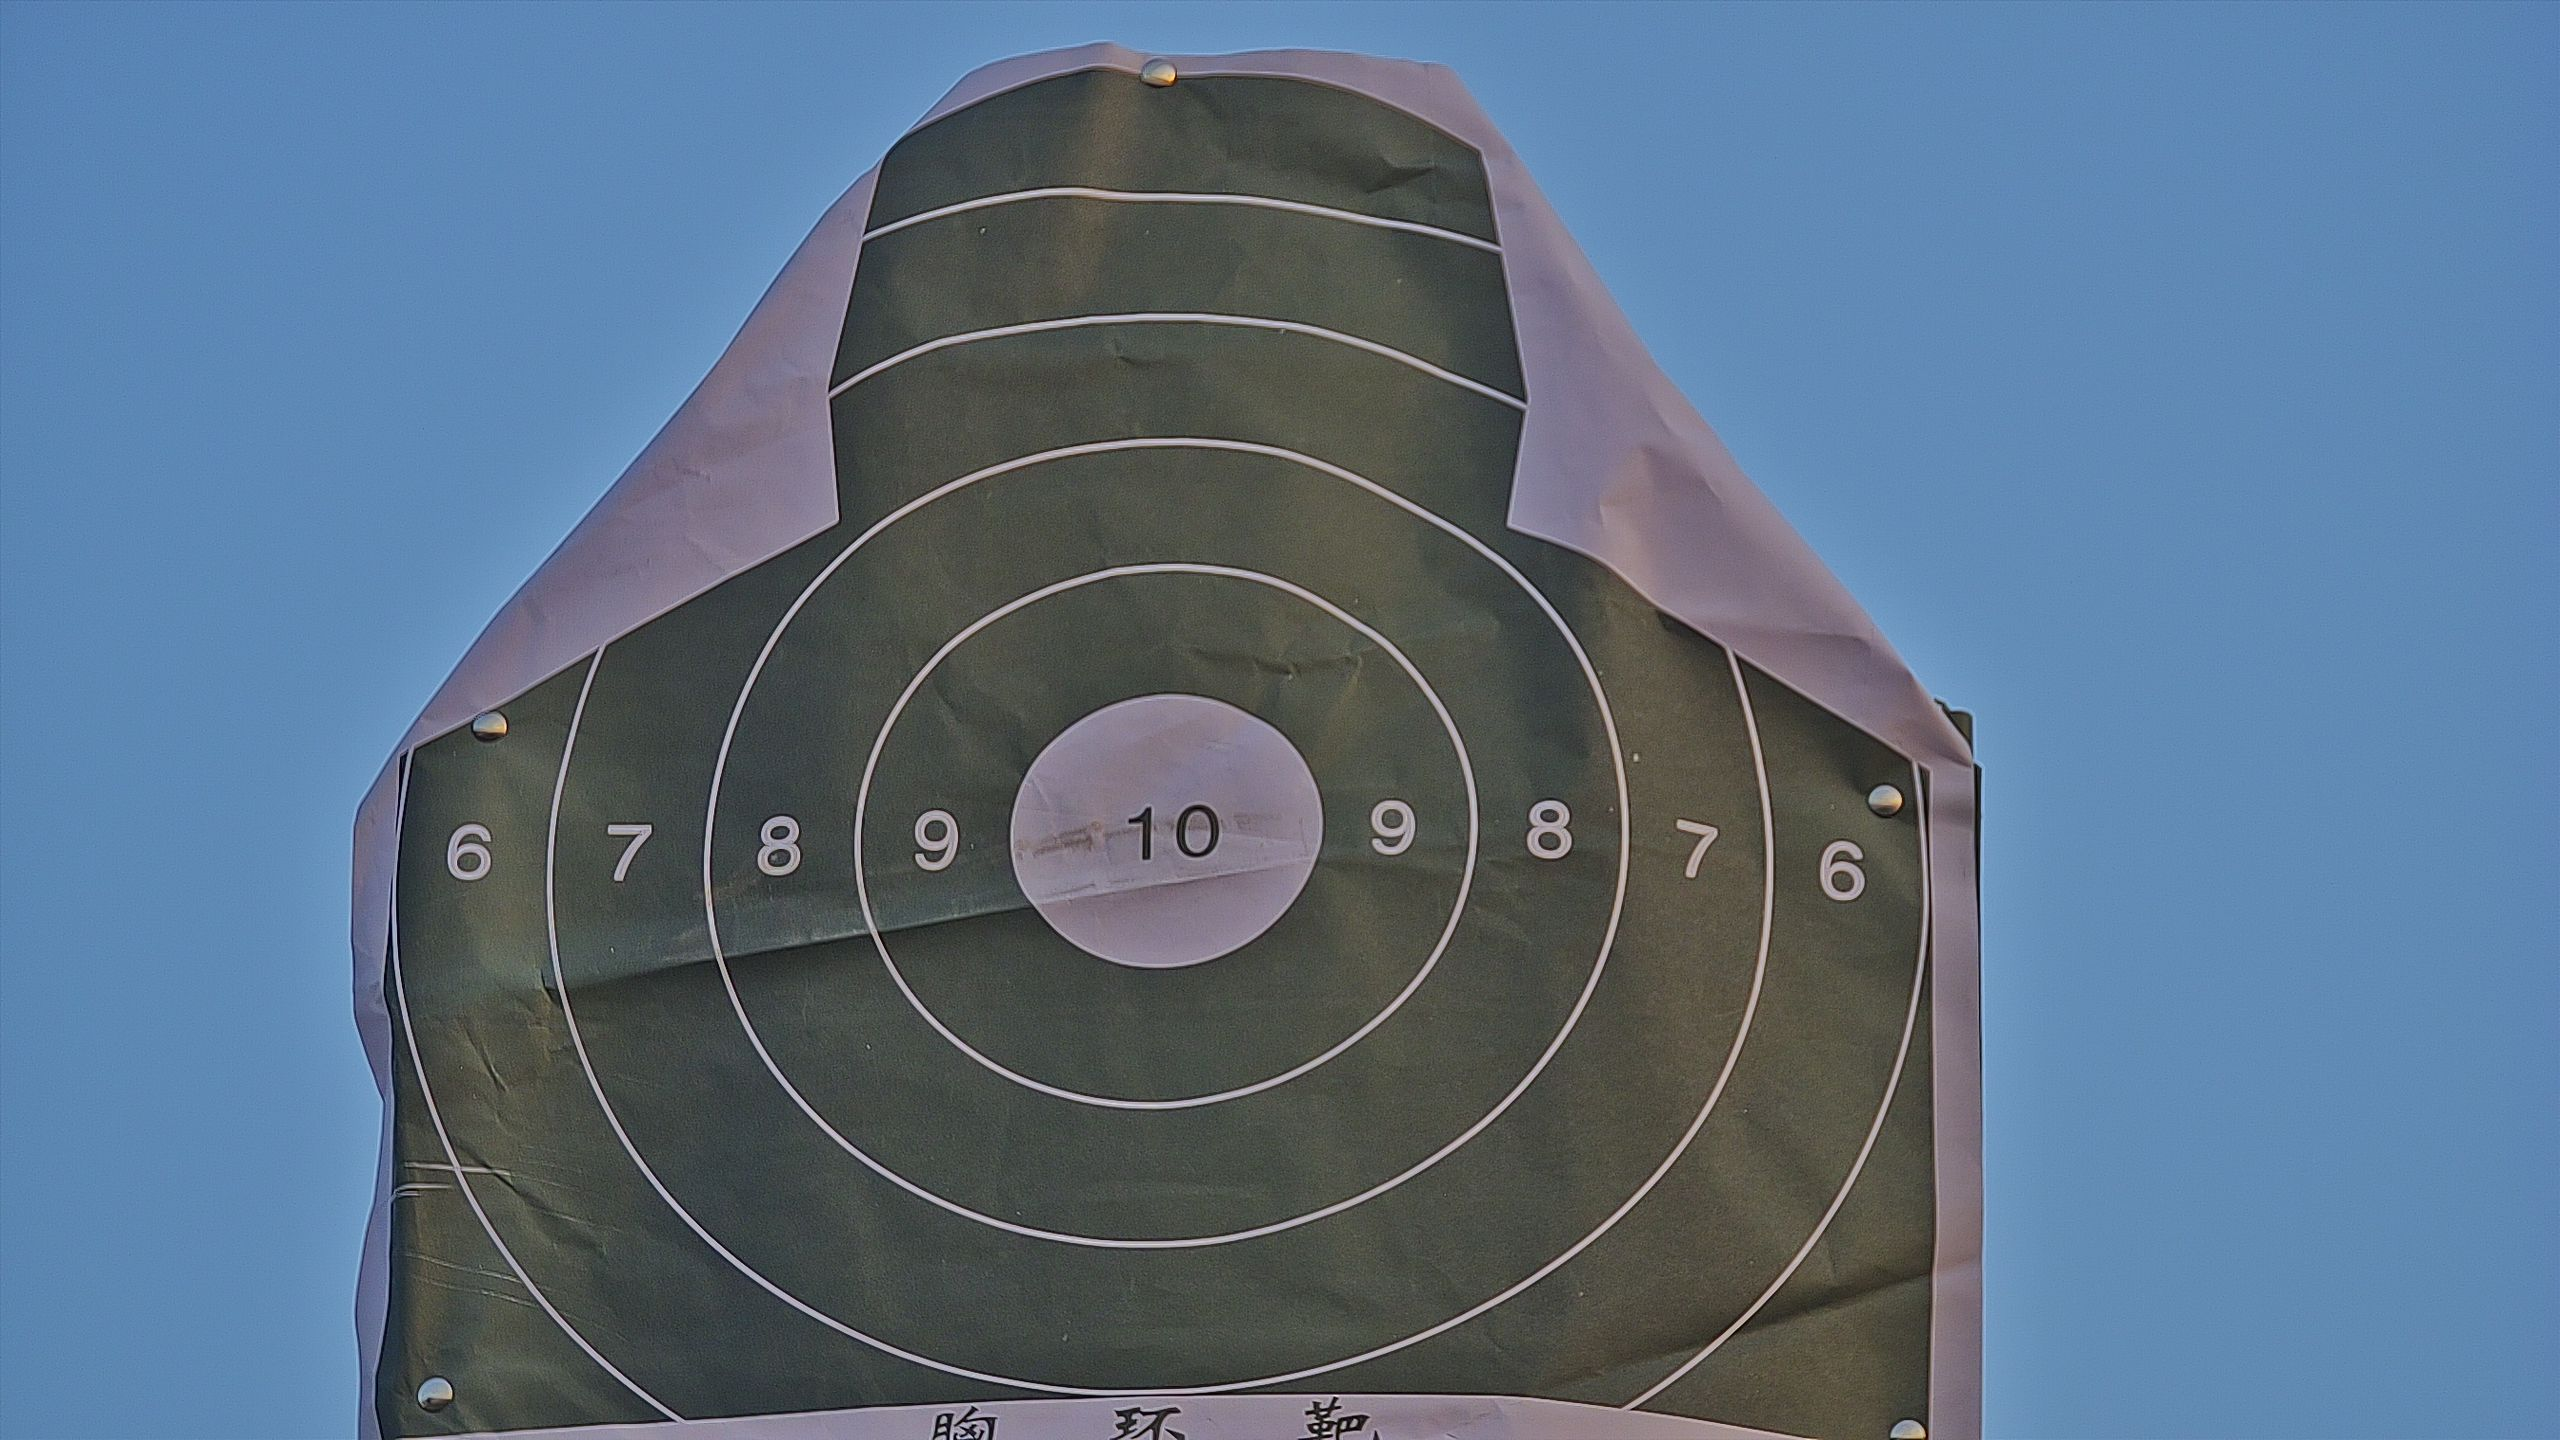kernel: (1160, 832, 1167, 844)
target: (390, 70, 1939, 1440)
ten: (1009, 693, 1326, 972)
